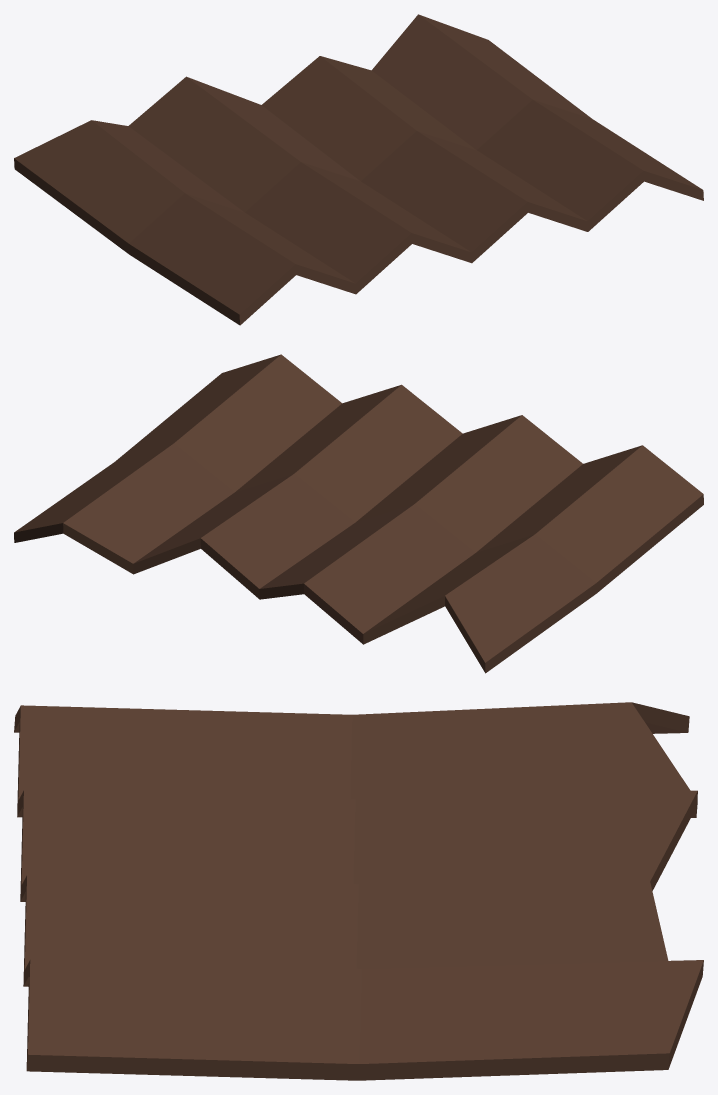
Rendered from Chapa1.fbx.
3 renders of one model, top to bottom at view 1: azimuth 30°, elevation 25°; view 2: azimuth 150°, elevation 25°; view 3: azimuth 270°, elevation 25°, orthographic. The views are drawn at different scales.
Parts seen in each view (by area): view 1: PilaBasura_Grande.006; view 2: PilaBasura_Grande.006; view 3: PilaBasura_Grande.006.
Boxes of the visible parts, x1,y1,x2,y2 form: PilaBasura_Grande.006: [14, 14, 703, 325]; PilaBasura_Grande.006: [14, 354, 703, 673]; PilaBasura_Grande.006: [14, 702, 703, 1080].
Size of the model in its own units: 1.01 by 0.1202 by 0.8323.
